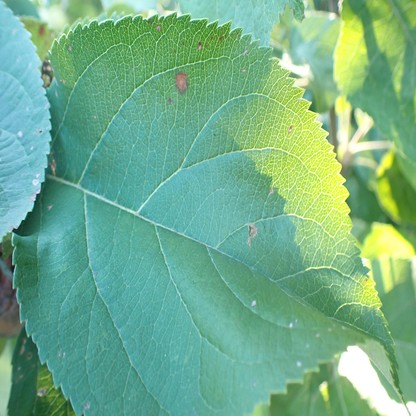frogeye: (42, 55, 54, 89), (176, 73, 187, 95), (247, 222, 257, 244)
